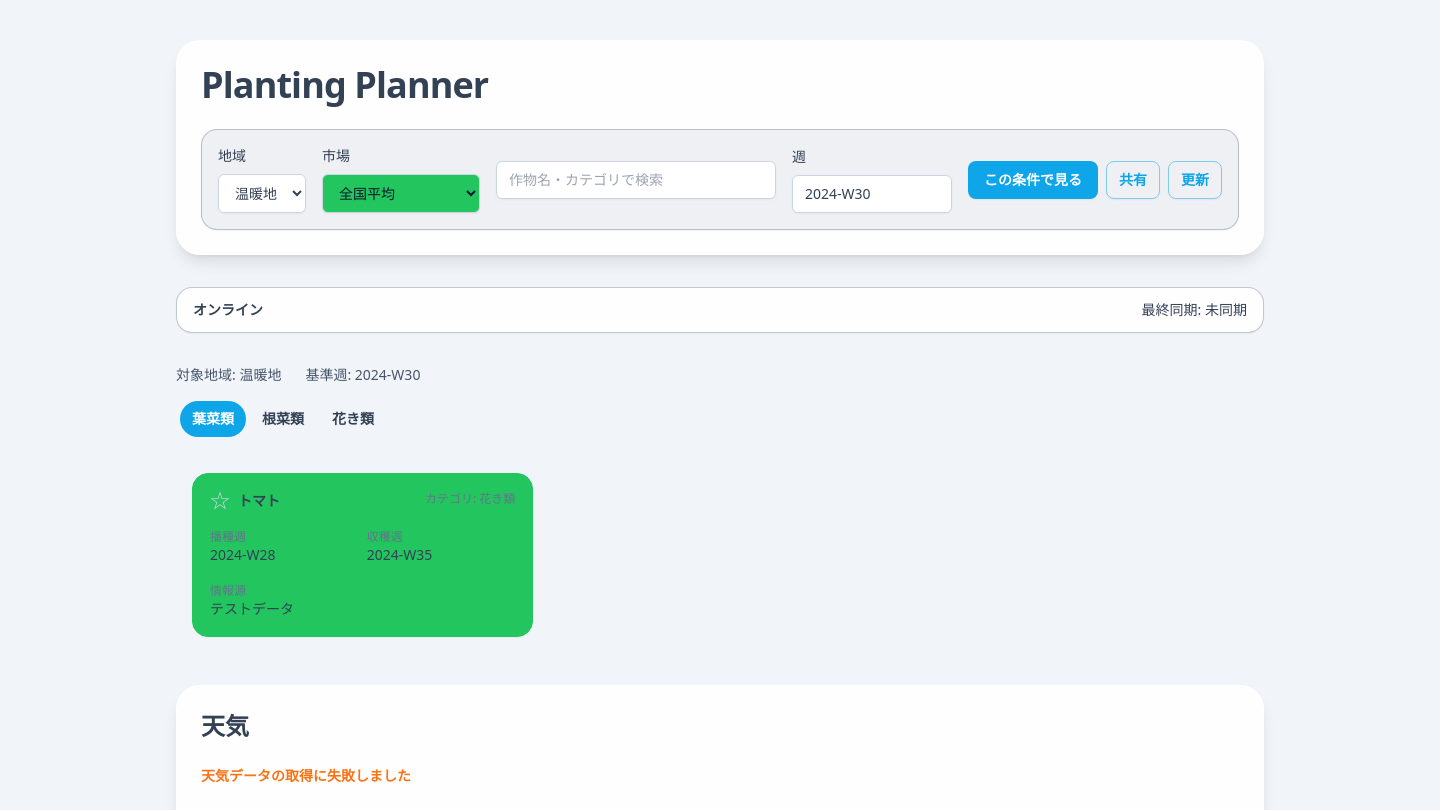
Region switching resets crop selection › 地域切替で選択が解除され価格チャートが初期状態に戻る
The image size is (1440, 810).
Click the row "☆ トマト カテゴリ: 花き類 播種週 2024-W28 収穫週 2024-W35 情報源 テストデータ".
click(363, 555)  # box x1=192 y1=473 x2=533 y2=637
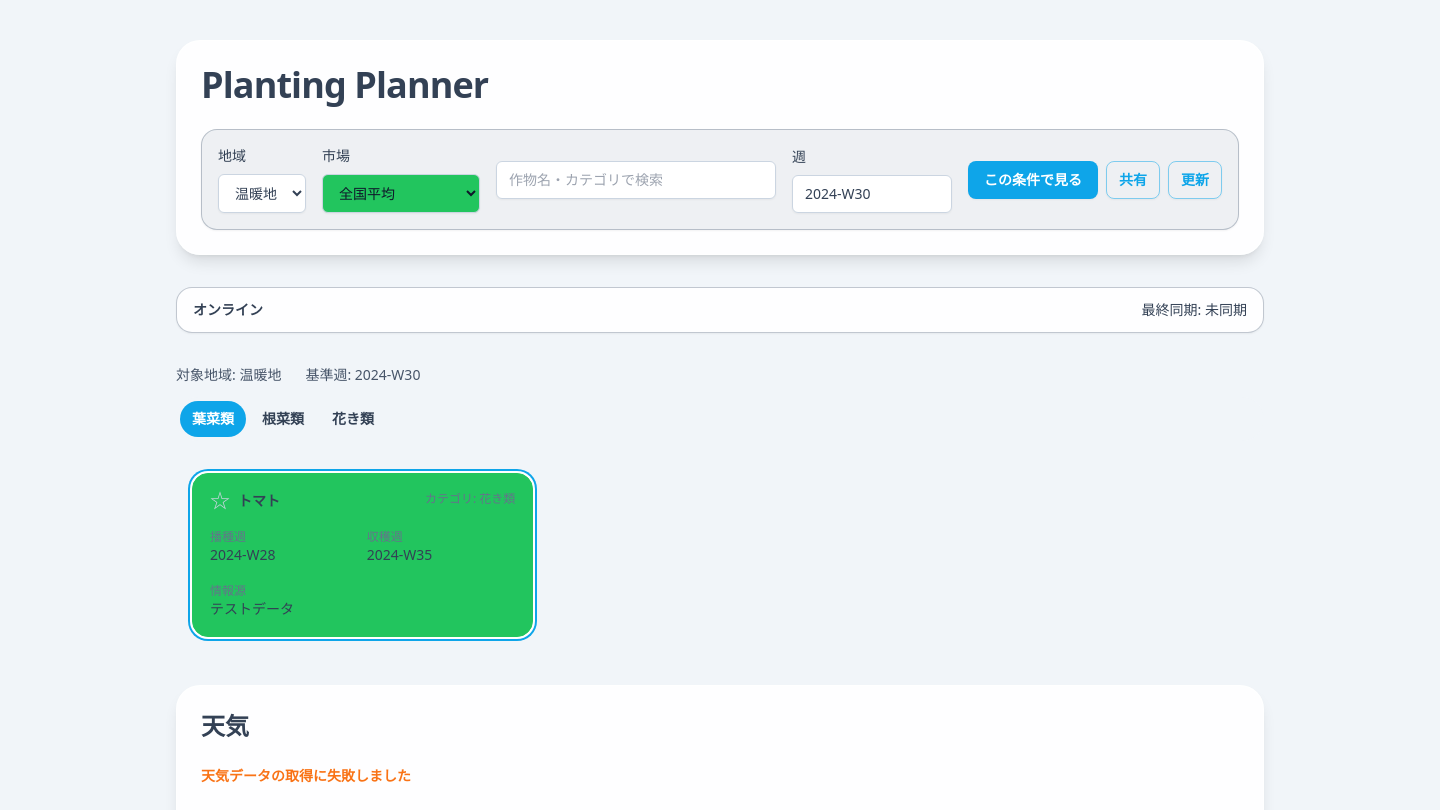
Select "暖地" in the dropdown labelled "地域" at (262, 194), box x1=218 y1=174 x2=306 y2=213
(page scrolled)
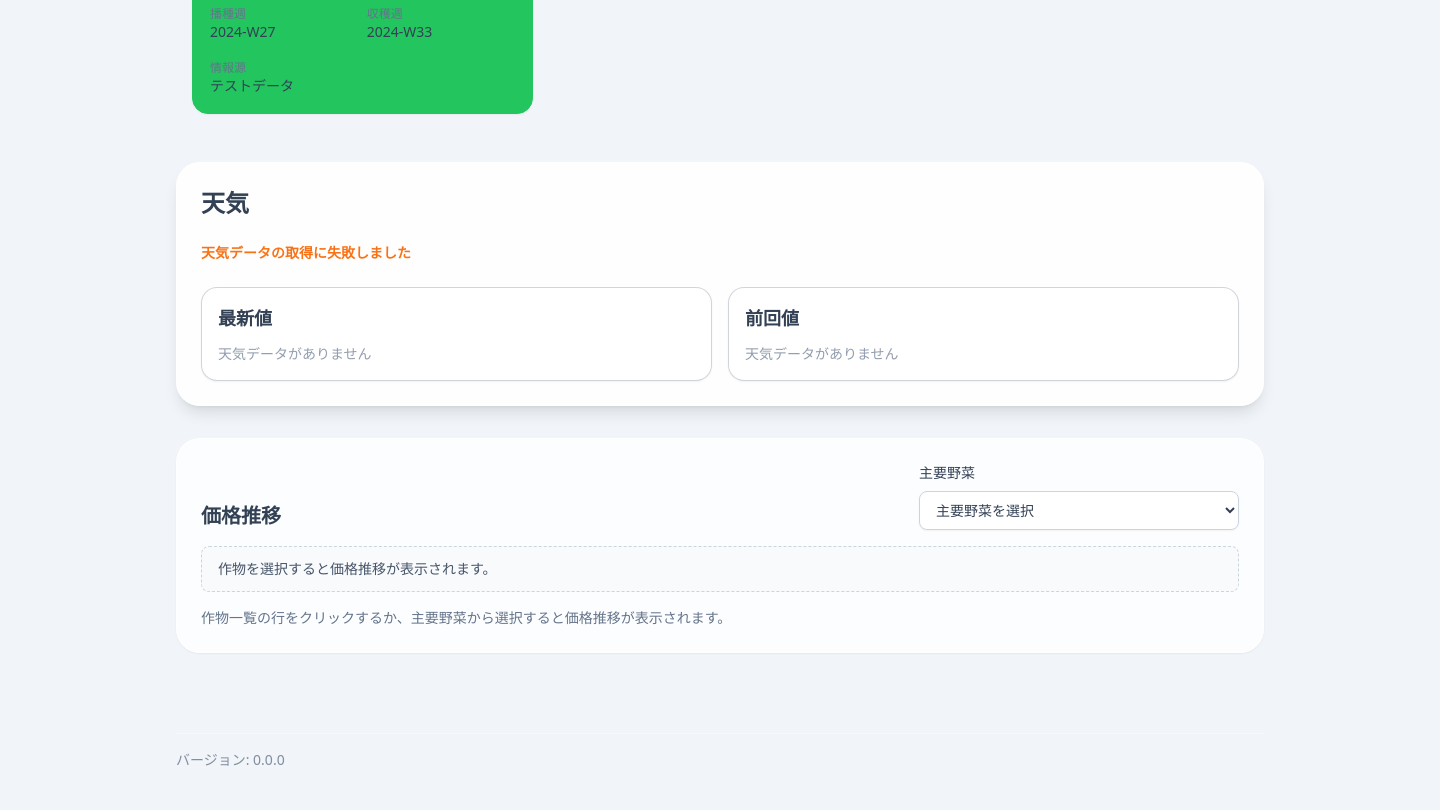
Result: the text "作物を選択すると価格推移が表示されます。" is shown at x1=201 y1=546 x2=1239 y2=592
